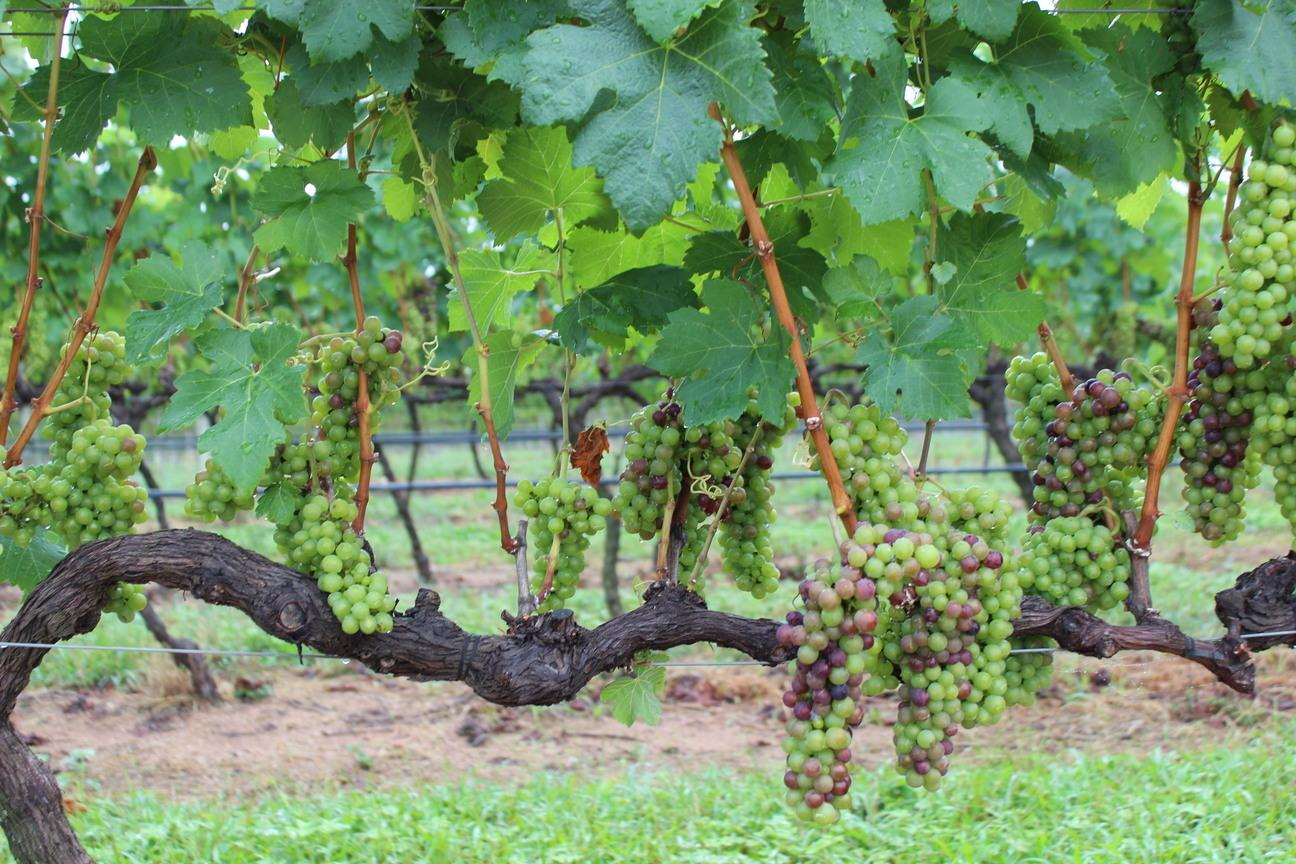leaf: (516, 0, 777, 229), (829, 59, 991, 225), (159, 322, 305, 491), (648, 279, 792, 422), (854, 295, 978, 418), (477, 126, 610, 238), (936, 213, 1044, 345), (553, 264, 697, 352), (251, 159, 373, 260), (125, 240, 222, 363), (1190, 0, 1295, 102), (459, 243, 549, 330), (296, 0, 412, 62), (265, 75, 353, 149), (485, 330, 544, 437), (804, 0, 899, 62), (0, 527, 64, 592), (599, 665, 664, 724), (625, 0, 717, 41), (465, 349, 480, 403), (449, 298, 469, 328), (478, 415, 485, 433)
